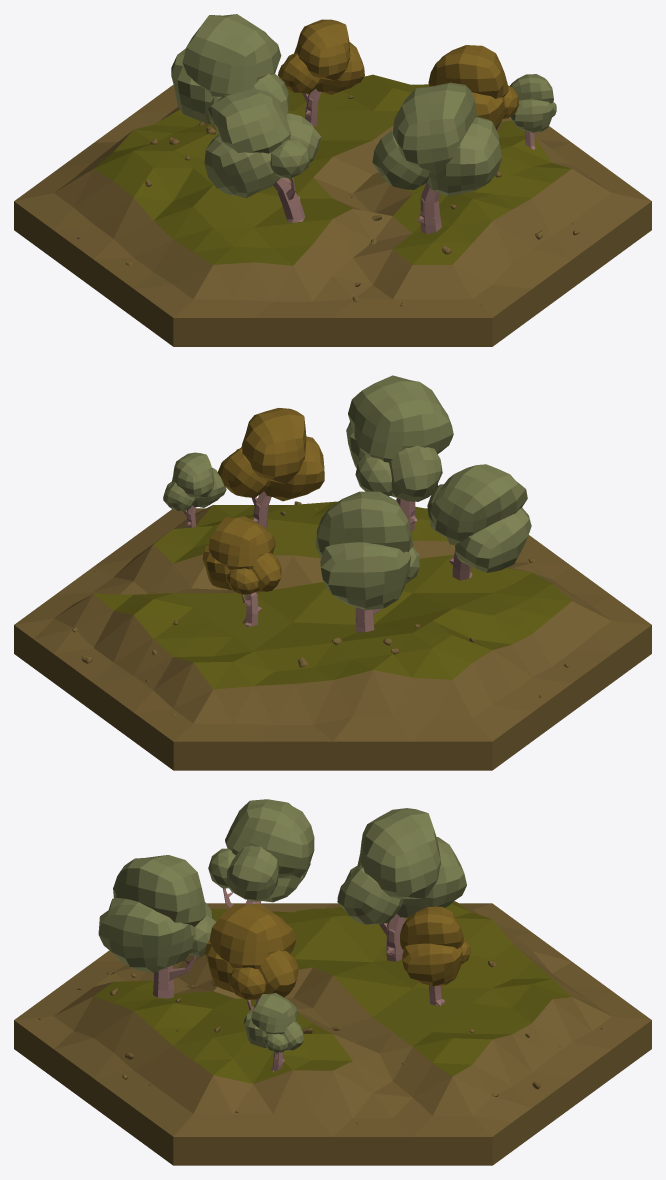
Rendered from tropicalSeasonalForest.glb.
3 views of the same model, one above another, from view 1: azimuth 30°, elevation 25°; view 2: azimuth 150°, elevation 25°; view 3: azimuth 270°, elevation 25° (orthographic).
Visible parts, largest first — view 1: land, trees, rocks; view 2: land, trees, rocks; view 3: land, trees, rocks.
Part boxes in pixels (bbox=[...]): land: bbox=[14, 74, 651, 346]; trees: bbox=[171, 14, 556, 234]; rocks: bbox=[77, 95, 589, 306]; land: bbox=[14, 501, 651, 770]; trees: bbox=[163, 375, 531, 632]; rocks: bbox=[72, 501, 569, 715]; land: bbox=[14, 901, 651, 1165]; trees: bbox=[98, 799, 470, 1072]; rocks: bbox=[38, 909, 604, 1123].
Size of the model in its own units: 1.73 by 0.6945 by 2.
